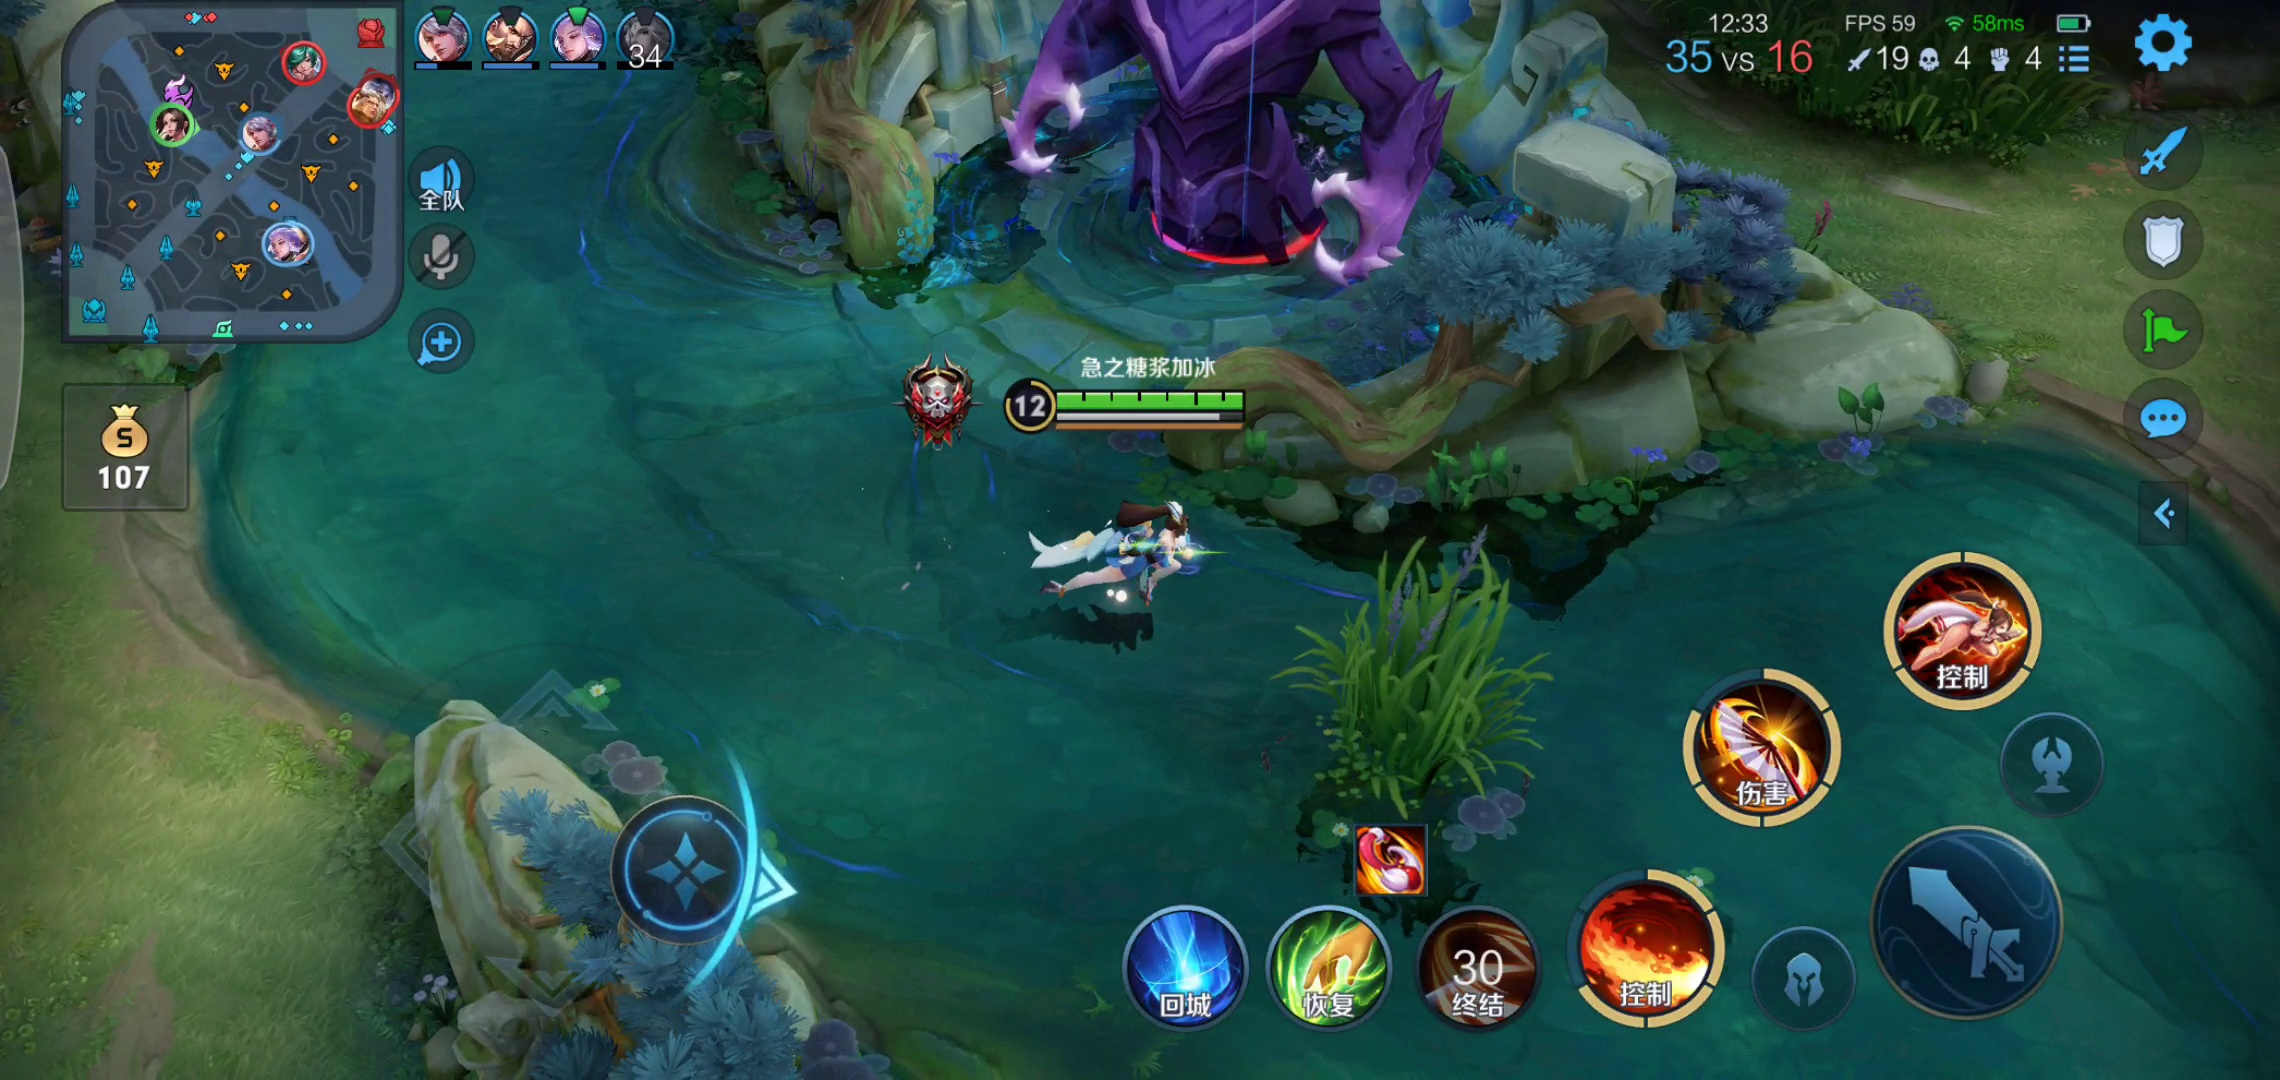dragon: (1000, 1, 1450, 330)
grass: (1275, 548, 1544, 814), (1730, 9, 2090, 172)
hero: (1025, 485, 1213, 637)
